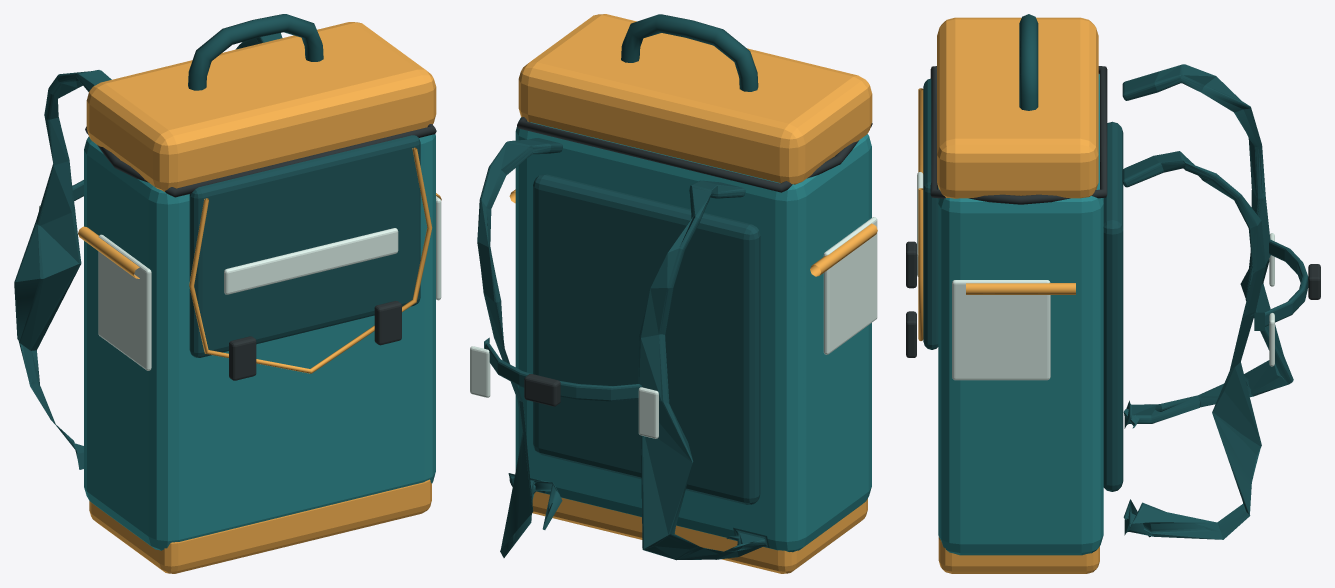
Rendered from delivery_backpack_riding.glb.
3 renders of one model, left to right at view 1: azimuth 30°, elevation 25°; view 2: azimuth 150°, elevation 25°; view 3: azimuth 270°, elevation 25°, orthographic. The views are drawn at different scales.
Parts seen in each view (by area): view 1: DeliveryBackpack_Body, DeliveryBackpack_InsulatedLid, DeliveryBackpack_FrontFlap, DeliveryBackpack_ShoulderStrap_L, DeliveryBackpack_ReinforcedBase, DeliveryBackpack_ReflectiveSide_L, DeliveryBackpack_ReflectiveFront, DeliveryBackpack_CarryHandle, DeliveryBackpack_FrontFlapSeam, DeliveryBackpack_LidZipper, DeliveryBackpack_FlapBuckle_-1, DeliveryBackpack (+2 smaller); view 2: DeliveryBackpack_Body, DeliveryBackpack_PaddedBack, DeliveryBackpack_InsulatedLid, DeliveryBackpack_ShoulderStrap_L, DeliveryBackpack_ShoulderStrap_R, DeliveryBackpack_ReinforcedBase, DeliveryBackpack_ReflectiveSide_L, DeliveryBackpack_CarryHandle, DeliveryBackpack_LidZipper, DeliveryBackpack_SternumStrap, DeliveryBackpack_StrapReflector_L, DeliveryBackpack_StrapReflector_R (+3 smaller); view 3: DeliveryBackpack_Body, DeliveryBackpack_InsulatedLid, DeliveryBackpack_ShoulderStrap_R, DeliveryBackpack_ReflectiveSide_R, DeliveryBackpack_ShoulderStrap_L, DeliveryBackpack_PaddedBack, DeliveryBackpack_FrontFlap, DeliveryBackpack_ReinforcedBase, DeliveryBackpack_LidZipper, DeliveryBackpack_CarryHandle, DeliveryBackpack_SternumStrap, DeliveryBackpack_FrontFlapSeam (+1 smaller).
Part boxes in pixels (left/top/right/bottom): DeliveryBackpack_Body: left=84, top=134, right=435, bottom=550; DeliveryBackpack_InsulatedLid: left=86, top=22, right=436, bottom=191; DeliveryBackpack_FrontFlap: left=189, top=135, right=420, bottom=357; DeliveryBackpack_ShoulderStrap_L: left=14, top=70, right=111, bottom=469; DeliveryBackpack_ReinforcedBase: left=89, top=479, right=431, bottom=573; DeliveryBackpack_ReflectiveSide_L: left=98, top=234, right=151, bottom=370; DeliveryBackpack_ReflectiveFront: left=224, top=228, right=398, bottom=294; DeliveryBackpack_CarryHandle: left=188, top=14, right=323, bottom=90; DeliveryBackpack_FrontFlapSeam: left=189, top=147, right=432, bottom=373; DeliveryBackpack_LidZipper: left=85, top=124, right=436, bottom=197; DeliveryBackpack_FlapBuckle_-1: left=229, top=336, right=256, bottom=380; DeliveryBackpack: left=374, top=301, right=401, bottom=345; DeliveryBackpack_Body: left=515, top=117, right=871, bottom=552; DeliveryBackpack_PaddedBack: left=533, top=174, right=760, bottom=504; DeliveryBackpack_InsulatedLid: left=518, top=14, right=872, bottom=184; DeliveryBackpack_ShoulderStrap_L: left=637, top=180, right=769, bottom=560; DeliveryBackpack_ShoulderStrap_R: left=477, top=138, right=562, bottom=557; DeliveryBackpack_ReinforcedBase: left=532, top=491, right=867, bottom=573; DeliveryBackpack_ReflectiveSide_L: left=823, top=217, right=877, bottom=354; DeliveryBackpack_CarryHandle: left=621, top=14, right=758, bottom=91; DeliveryBackpack_LidZipper: left=517, top=117, right=872, bottom=192; DeliveryBackpack_SternumStrap: left=484, top=337, right=641, bottom=401; DeliveryBackpack_StrapReflector_L: left=638, top=387, right=658, bottom=438; DeliveryBackpack_StrapReflector_R: left=470, top=346, right=490, bottom=397; DeliveryBackpack_Body: left=938, top=74, right=1103, bottom=555; DeliveryBackpack_InsulatedLid: left=937, top=17, right=1098, bottom=198; DeliveryBackpack_ShoulderStrap_R: left=1122, top=151, right=1265, bottom=539; DeliveryBackpack_ReflectiveSide_R: left=952, top=280, right=1050, bottom=380; DeliveryBackpack_ShoulderStrap_L: left=1122, top=64, right=1293, bottom=428; DeliveryBackpack_PaddedBack: left=1103, top=121, right=1123, bottom=491; DeliveryBackpack_FrontFlap: left=923, top=78, right=938, bottom=349; DeliveryBackpack_ReinforcedBase: left=938, top=537, right=1099, bottom=573; DeliveryBackpack_LidZipper: left=930, top=66, right=1107, bottom=204; DeliveryBackpack_CarryHandle: left=1019, top=14, right=1038, bottom=110; DeliveryBackpack_SternumStrap: left=1254, top=239, right=1308, bottom=330; DeliveryBackpack_FrontFlapSeam: left=918, top=88, right=923, bottom=340.
Bounding box in the file's own units: 0.444 × 0.6815 × 0.527.
